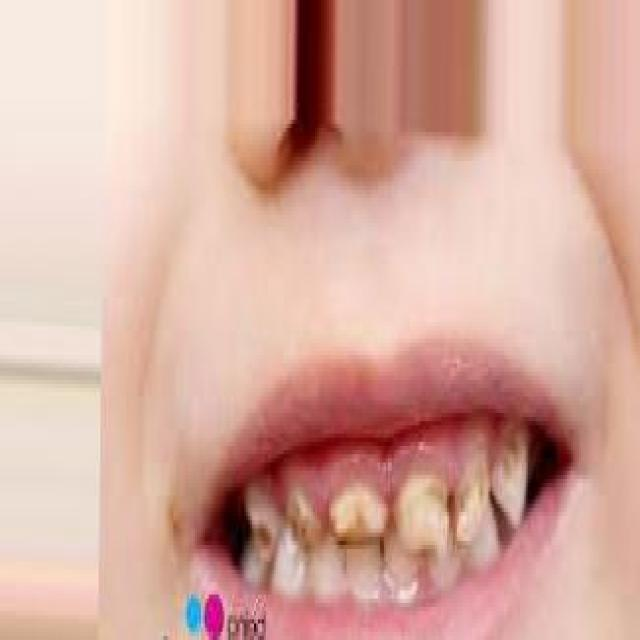caries: (396, 466, 451, 557), (329, 480, 393, 556), (454, 440, 492, 542), (284, 482, 327, 566), (248, 494, 282, 572), (492, 416, 528, 486)
